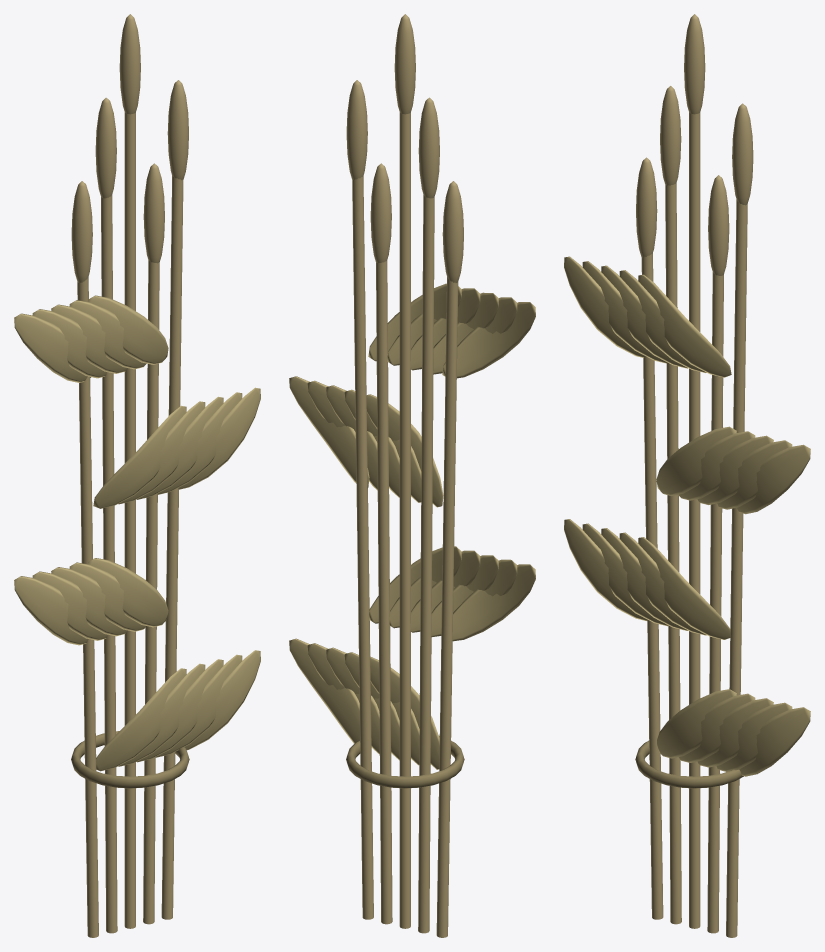
The model's file is cornstalks.glb.
The picture shows the model from 3 angles, left to right: view 1: azimuth 30°, elevation 25°; view 2: azimuth 150°, elevation 25°; view 3: azimuth 330°, elevation 25°; orthographic projection.
Parts seen in each view (by area): view 1: corn-stalk-2, corn-stalk-4, corn-stalk-1, corn-stalk-0, corn-stalk-3, corn-leaf-0-2, corn-leaf-0-0, corn-leaf-0-1, corn-leaf-0-3, corn-leaf-4-1, corn-leaf-4-3, corn-leaf-4-2 (+19 smaller); view 2: corn-stalk-2, corn-stalk-4, corn-stalk-1, corn-stalk-3, corn-stalk-0, corn-leaf-0-1, corn-leaf-0-3, corn-leaf-4-0, corn-leaf-4-2, bundle-tie, corn-tassel-0, corn-tassel-1 (+19 smaller); view 3: corn-stalk-2, corn-stalk-4, corn-stalk-1, corn-stalk-0, corn-stalk-3, corn-leaf-4-3, corn-leaf-4-1, corn-leaf-4-2, corn-leaf-4-0, corn-leaf-0-2, corn-leaf-0-0, corn-leaf-0-1 (+19 smaller).
Boxes of the visible parts, x1,y1,x2,y2 form: corn-stalk-2: (124,112,135,928); corn-stalk-4: (161,176,183,919); corn-stalk-1: (101,195,117,933); corn-stalk-0: (77,277,98,937); corn-stalk-3: (143,260,159,924); corn-leaf-0-2: (93,405,186,508); corn-leaf-0-0: (96,668,186,771); corn-leaf-0-1: (14,576,88,645); corn-leaf-0-3: (14,313,90,382); corn-leaf-4-1: (88,558,168,627); corn-leaf-4-3: (88,295,168,364); corn-leaf-4-2: (178,387,260,489); corn-stalk-2: (399,112,410,928); corn-stalk-4: (352,176,373,919); corn-stalk-1: (418,195,434,933); corn-stalk-3: (376,260,392,924); corn-stalk-0: (436,277,458,937); corn-leaf-0-1: (452,564,535,641); corn-leaf-0-3: (442,302,535,378); corn-leaf-4-0: (289,638,359,743); corn-leaf-4-2: (289,376,369,488); bundle-tie: (346,735,464,788); corn-tassel-0: (442,181,463,282); corn-tassel-1: (418,97,439,198); corn-stalk-2: (689,112,700,928); corn-stalk-4: (726,199,747,937); corn-stalk-1: (665,183,681,924); corn-stalk-0: (641,253,663,919); corn-stalk-3: (707,272,723,933); corn-leaf-4-3: (638,274,731,377); corn-leaf-4-1: (638,537,730,639); corn-leaf-4-2: (737,444,810,514); corn-leaf-4-0: (739,707,810,776); corn-leaf-0-2: (656,426,736,495); corn-leaf-0-0: (657,689,736,758); corn-leaf-0-1: (564,519,647,620).
Size of the model in its own units: 0.6 by 2.12 by 0.25.
